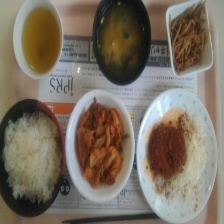rice: (0, 110, 62, 206)
